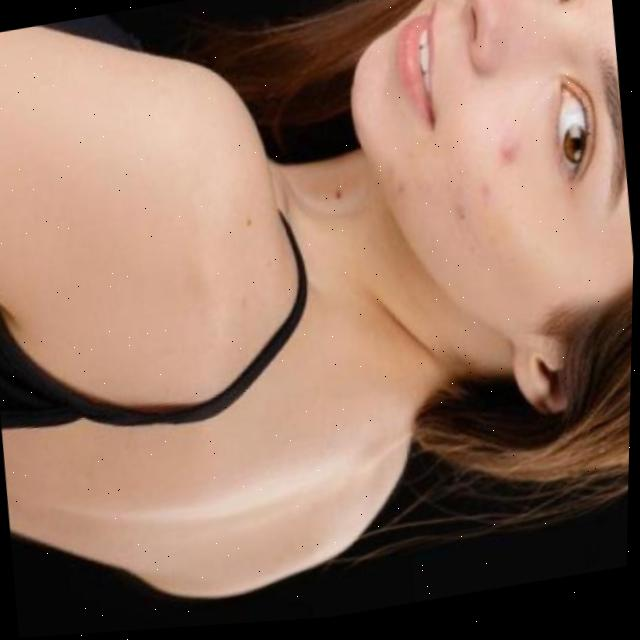Acne: (497, 128, 525, 172)
